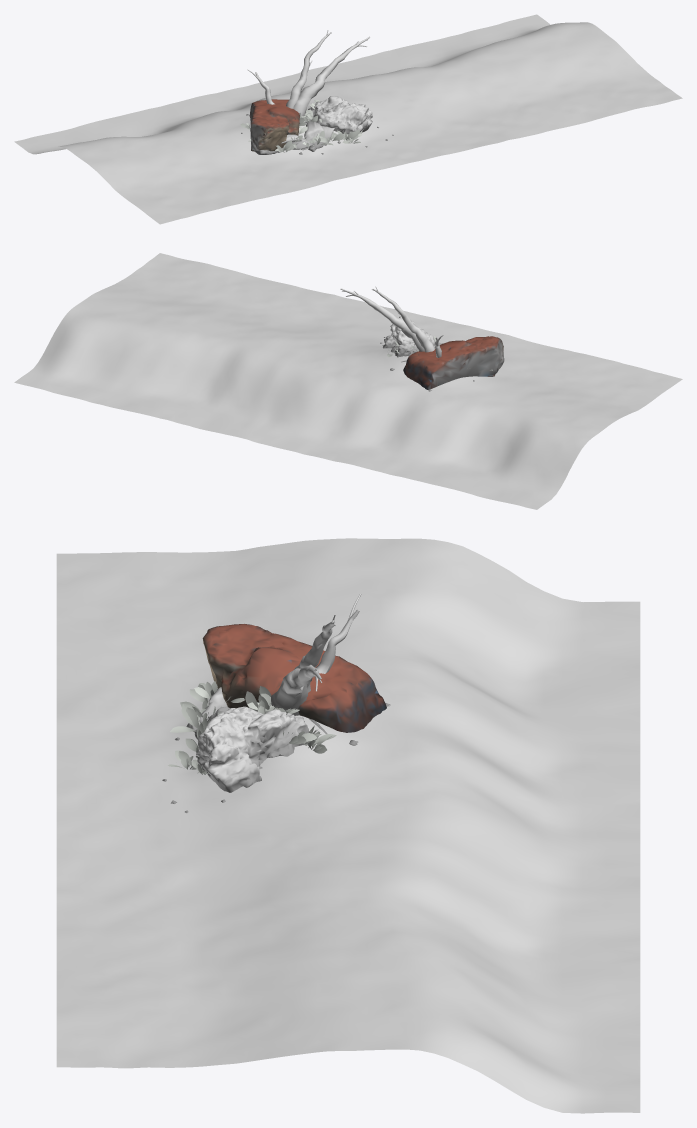
File: environment.glb
The picture shows the model from 3 angles, top to bottom: view 1: azimuth 30°, elevation 25°; view 2: azimuth 150°, elevation 25°; view 3: azimuth 270°, elevation 25°; orthographic projection. The views are drawn at different scales.
Parts seen in each view (by area): view 1: slice-c-substrate, slice-c-rock-07, slice-c-boulder, slice-c-wood, slice-c-leaves, slice-c-rock-09; view 2: slice-c-substrate, slice-c-rock-07, slice-c-wood, slice-c-boulder; view 3: slice-c-substrate, slice-c-rock-07, slice-c-boulder, slice-c-leaves, slice-c-wood.
Part boxes in pixels (x1=…): slice-c-substrate: x1=14, y1=14, x2=682, y2=224; slice-c-rock-07: x1=249, y1=99, x2=299, y2=151; slice-c-boulder: x1=308, y1=96, x2=372, y2=134; slice-c-wood: x1=247, y1=30, x2=369, y2=116; slice-c-leaves: x1=240, y1=100, x2=362, y2=152; slice-c-rock-09: x1=255, y1=119, x2=334, y2=154; slice-c-substrate: x1=14, y1=253, x2=682, y2=509; slice-c-rock-07: x1=403, y1=336, x2=504, y2=389; slice-c-wood: x1=340, y1=286, x2=443, y2=362; slice-c-boulder: x1=382, y1=316, x2=434, y2=357; slice-c-substrate: x1=56, y1=538, x2=640, y2=1113; slice-c-rock-07: x1=202, y1=624, x2=386, y2=732; slice-c-boulder: x1=196, y1=706, x2=309, y2=792; slice-c-leaves: x1=168, y1=681, x2=336, y2=774; slice-c-wood: x1=271, y1=594, x2=361, y2=734.
Bounding box in the file's own units: 18 × 3.66 × 8.7.
